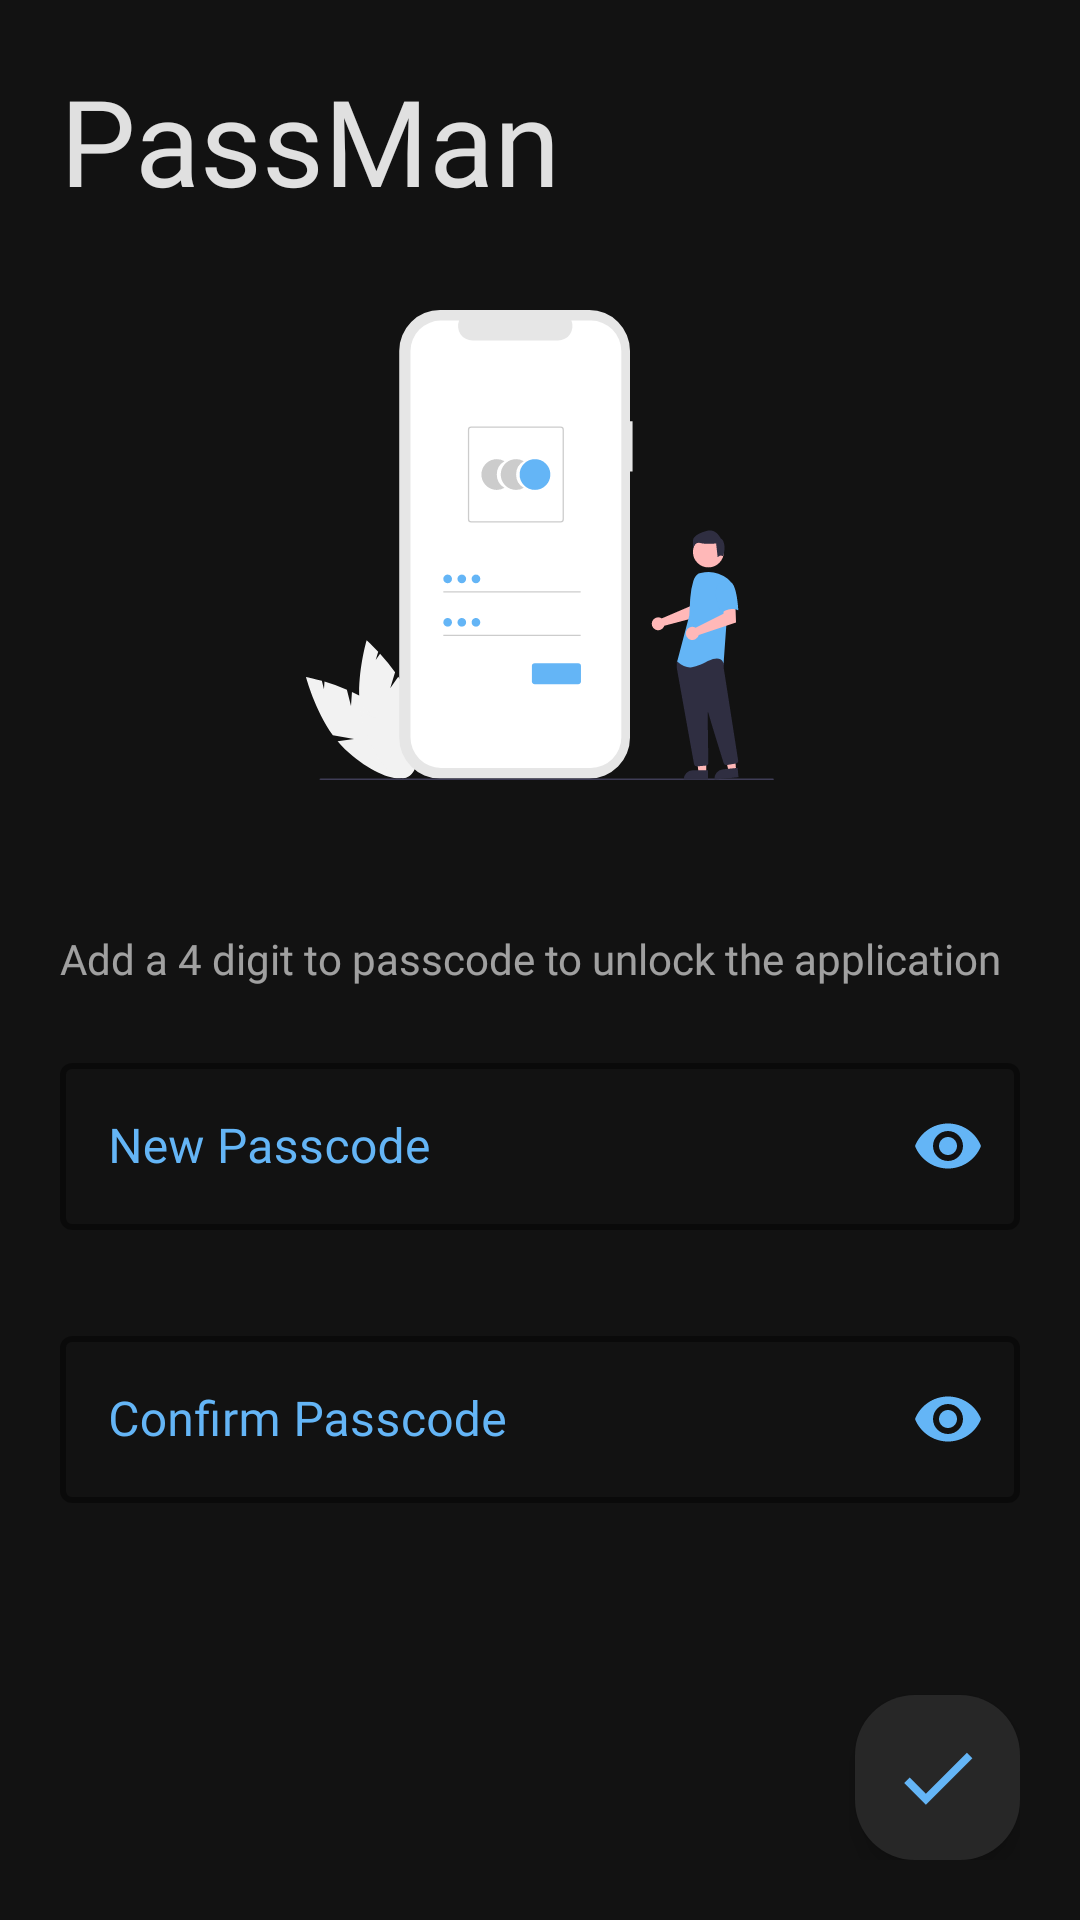

Where icons sit on this 1080px×1920px app screen, as (x1, y1, x2, y2):
check: (855, 1695, 1020, 1860)
